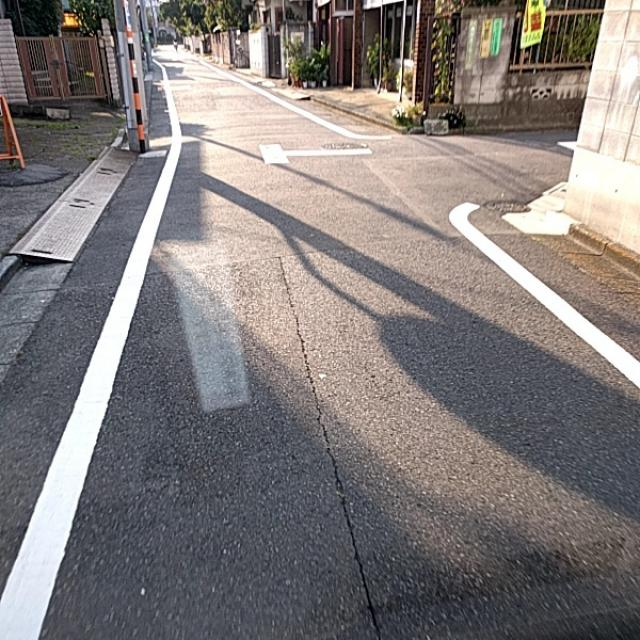pothole: (278, 316, 340, 424)
